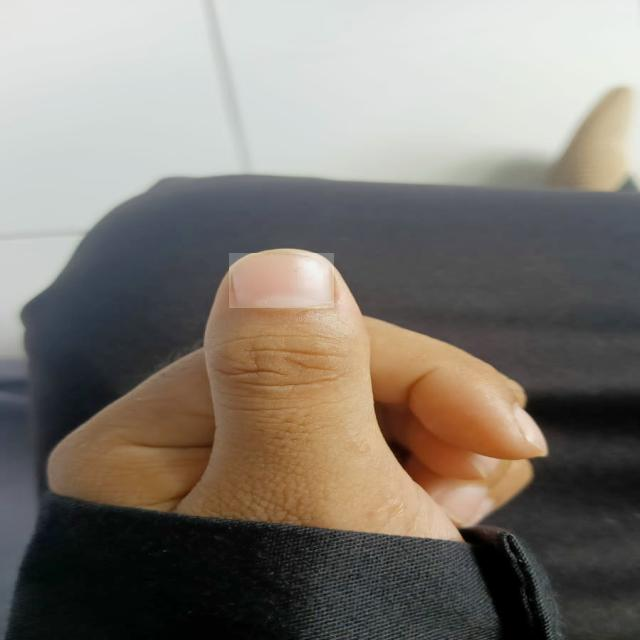sehat: (230, 253, 334, 308)
